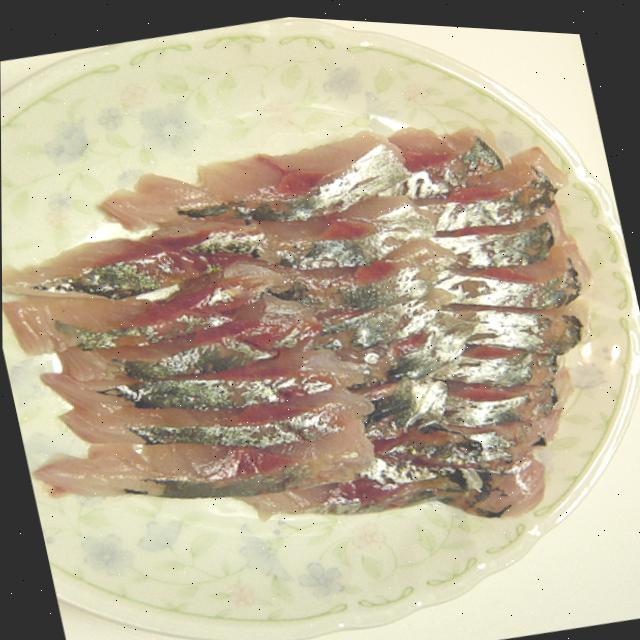刺身生食: (0, 28, 640, 633)
